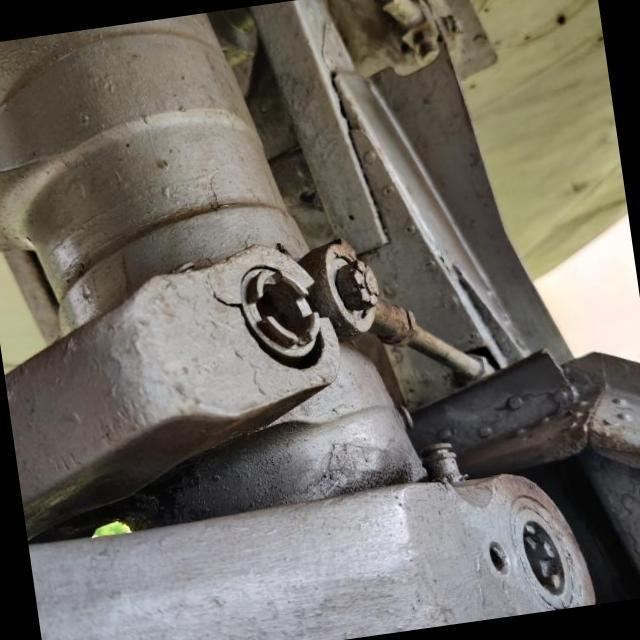Rupture: (199, 274, 246, 320)
